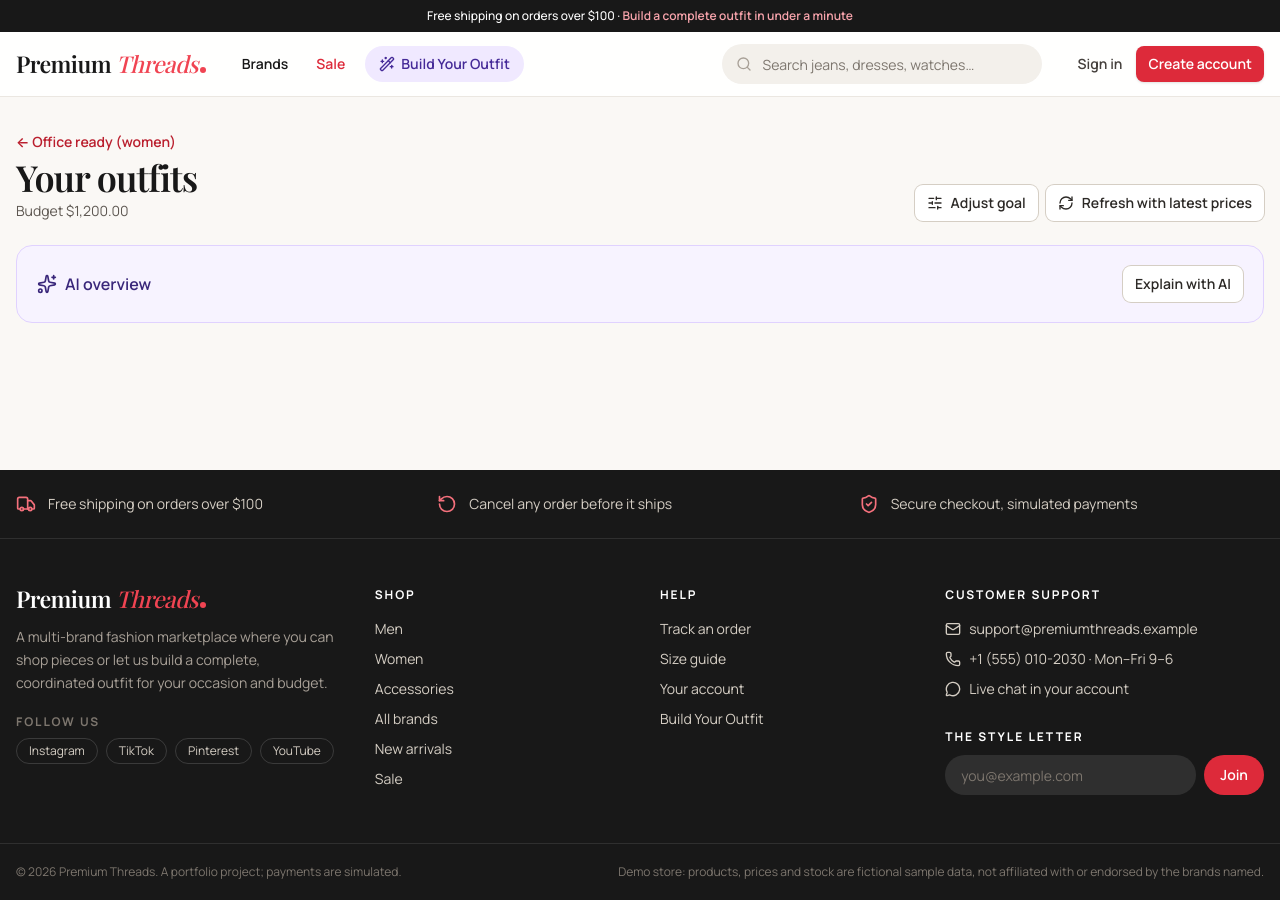
Test: AI assistance › explains when an AI answer was discarded
Click the button "Explain with AI" at x=1183, y=284, box [1123,266,1243,302]
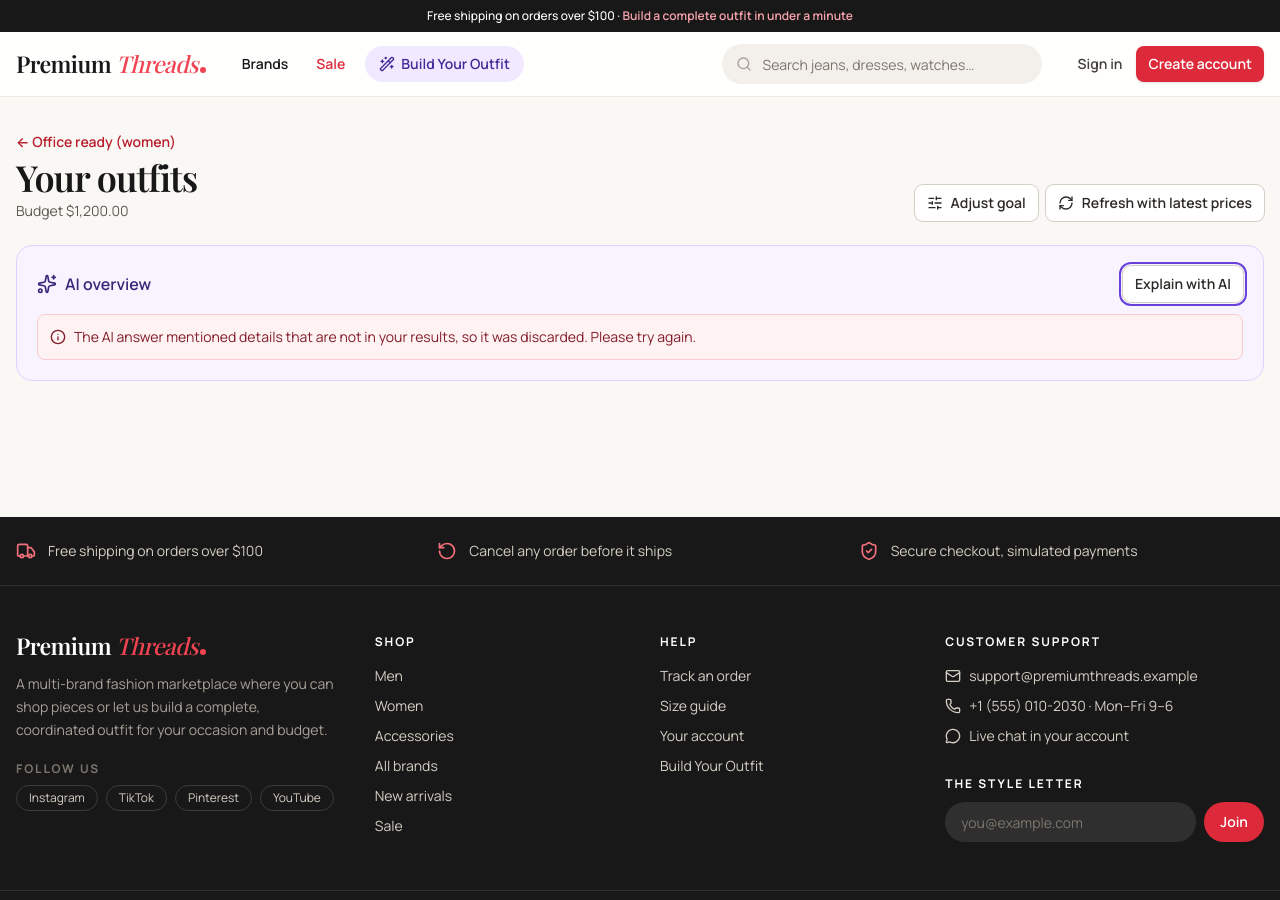
Check: the text "so it was discarded" is shown, box [74,327,696,346]
